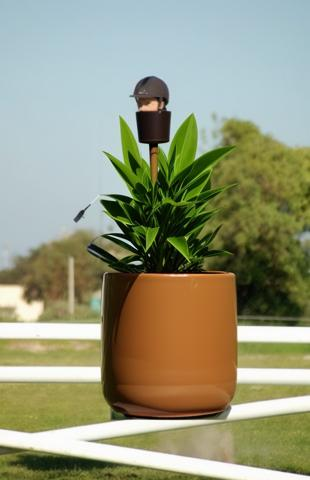person: (85, 74, 240, 262)
person/foot: (204, 238, 234, 253), (88, 245, 112, 255)
person/hand: (155, 146, 174, 161)
person/head: (129, 76, 170, 122)
pottedplant: (100, 111, 237, 419)
